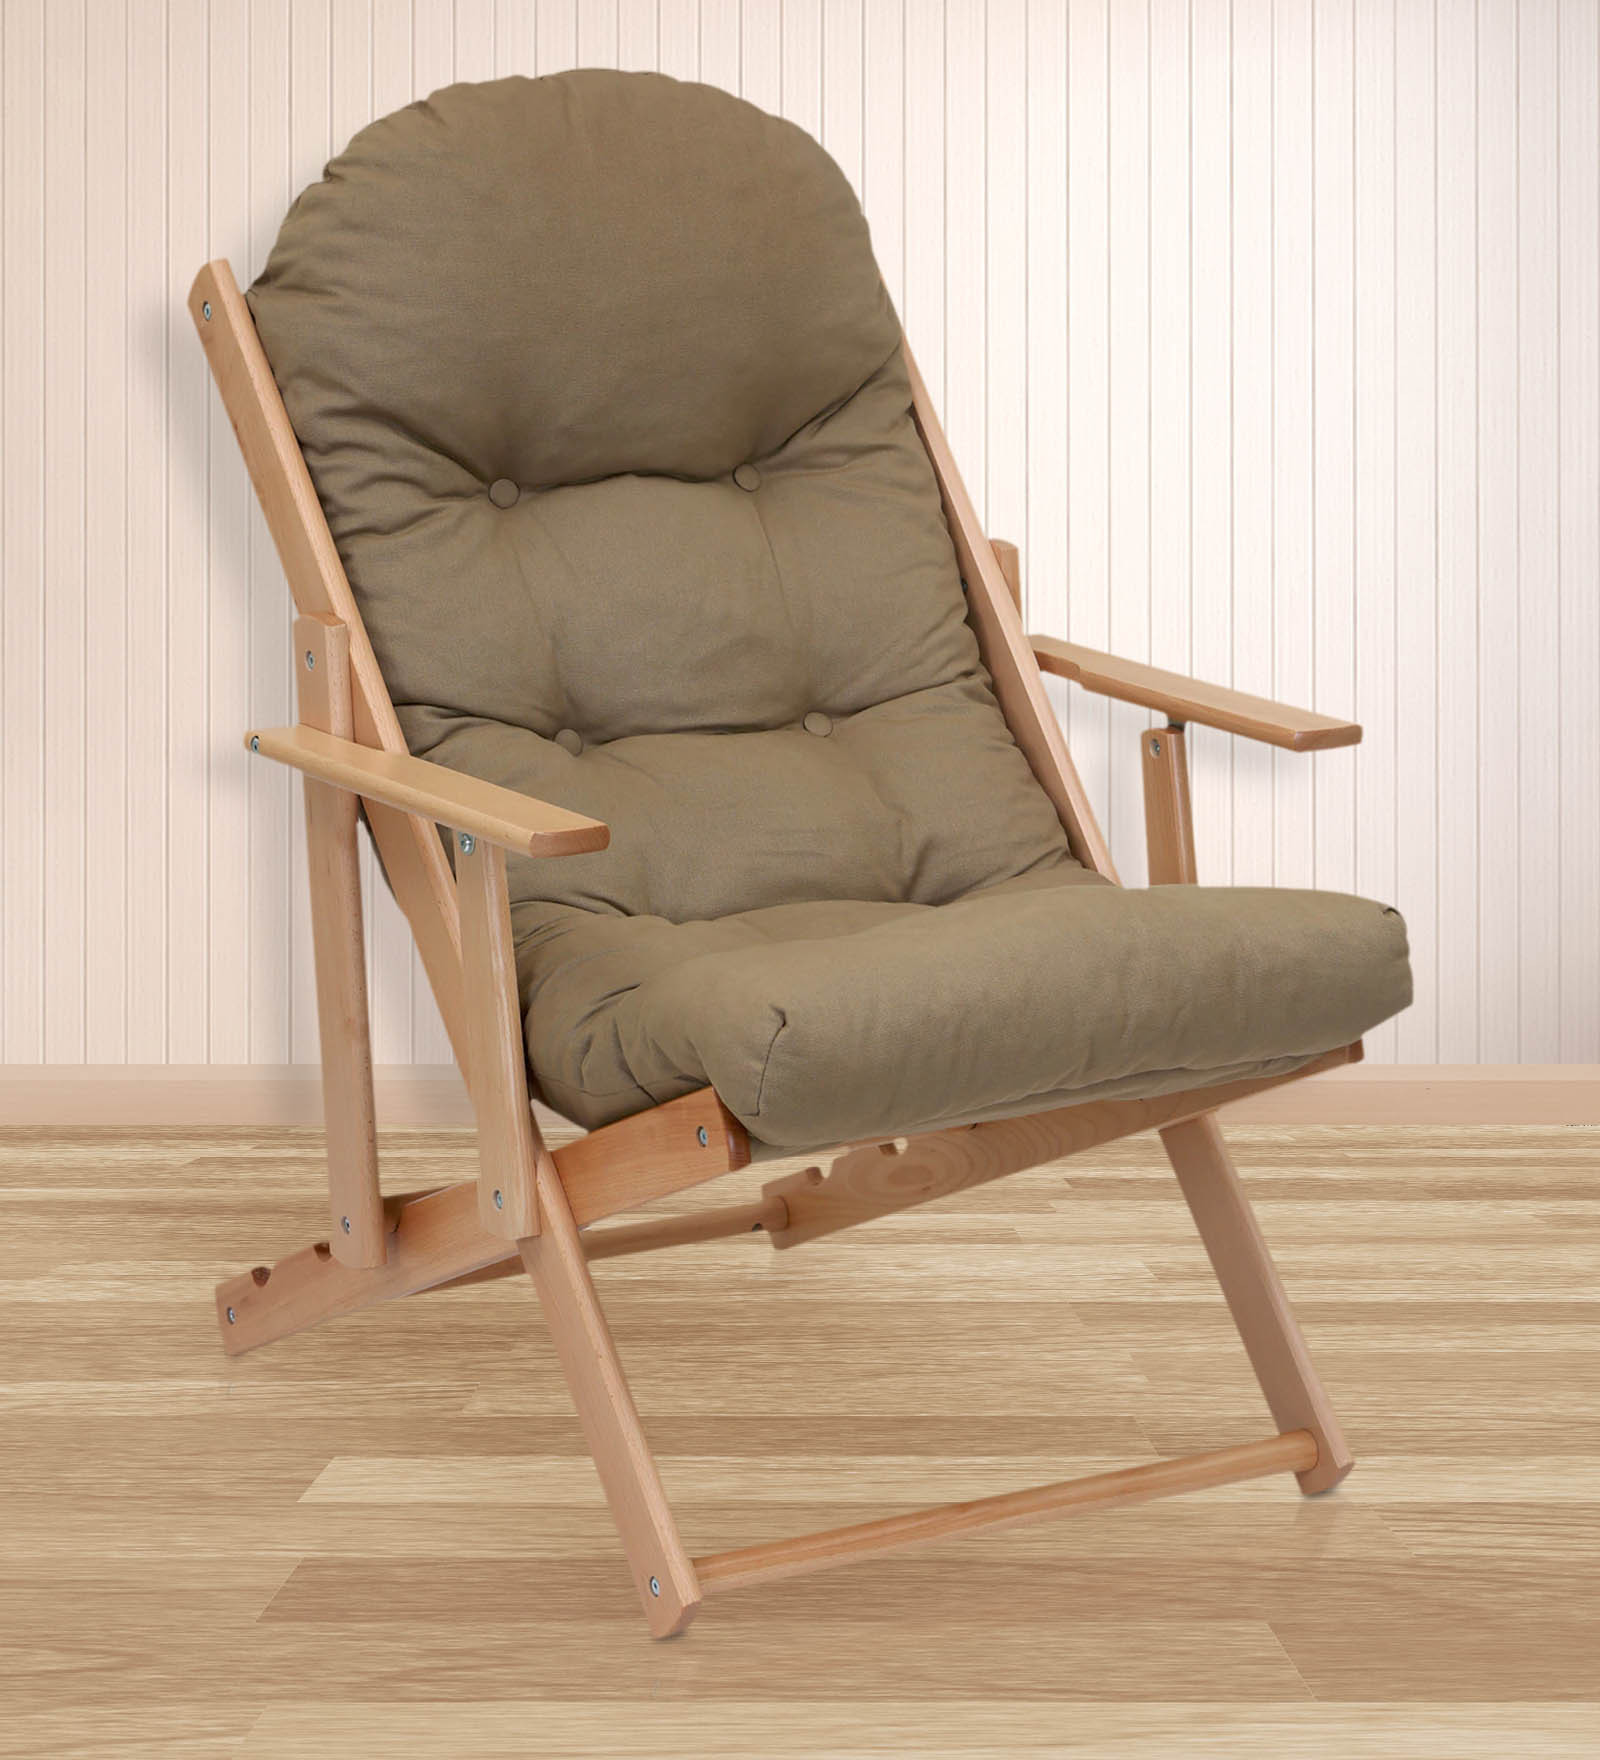Mazda Leisure Folding Chair in Light Brown Colour by @ Home: (185, 55, 1416, 1640)
